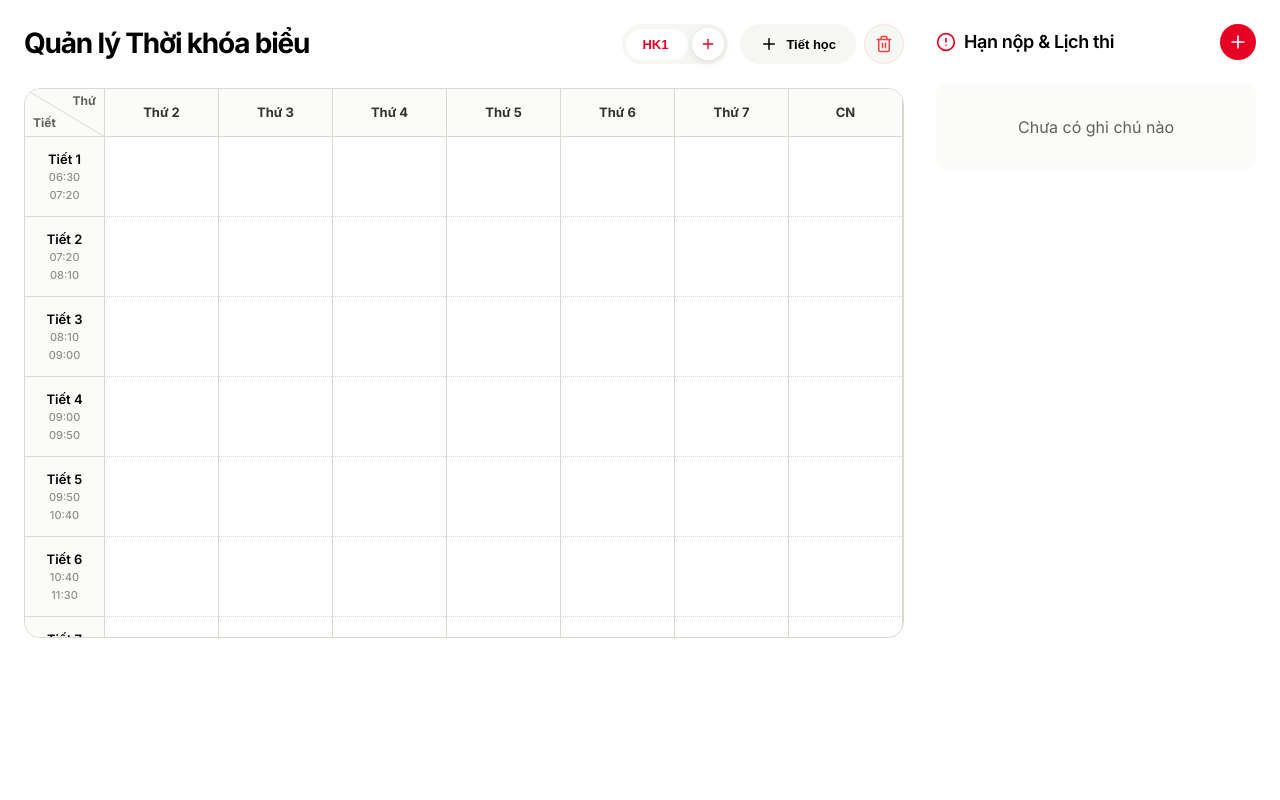
Test case: Timetable — entry & schedule CRUD › submit_valid_entry_calls_createScheduleEntry_and_closes_modal
Expected: the heading "Quản lý Thời khóa biểu" is shown, [24, 27, 309, 61]
Click the button "Tiết học": coordinates (798, 44) [740, 24, 856, 64]
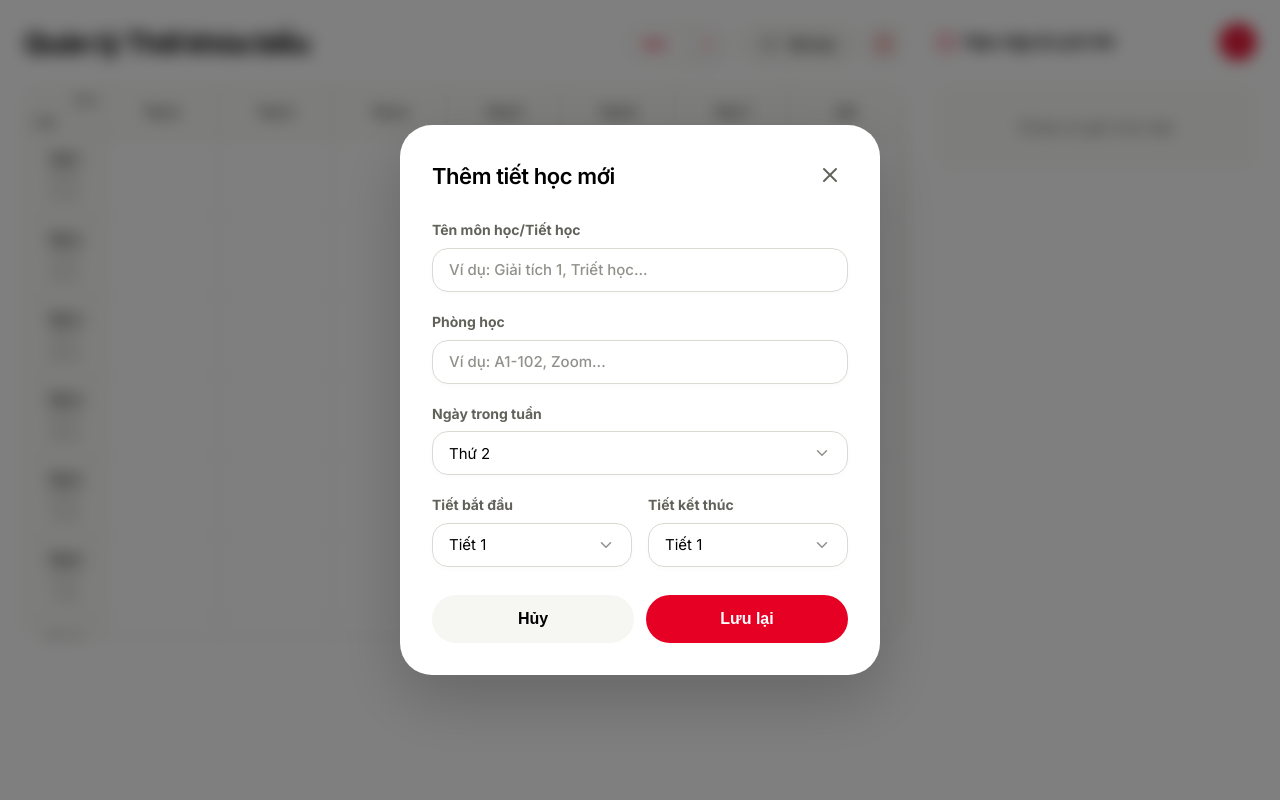
Result: the heading "Thêm tiết học mới" is shown at [432, 163, 615, 191]
In the field with placeholder "Ví dụ: Giải tích 1, Triết học...": coordinates (640, 270) [432, 248, 848, 292], type "Vật lý"
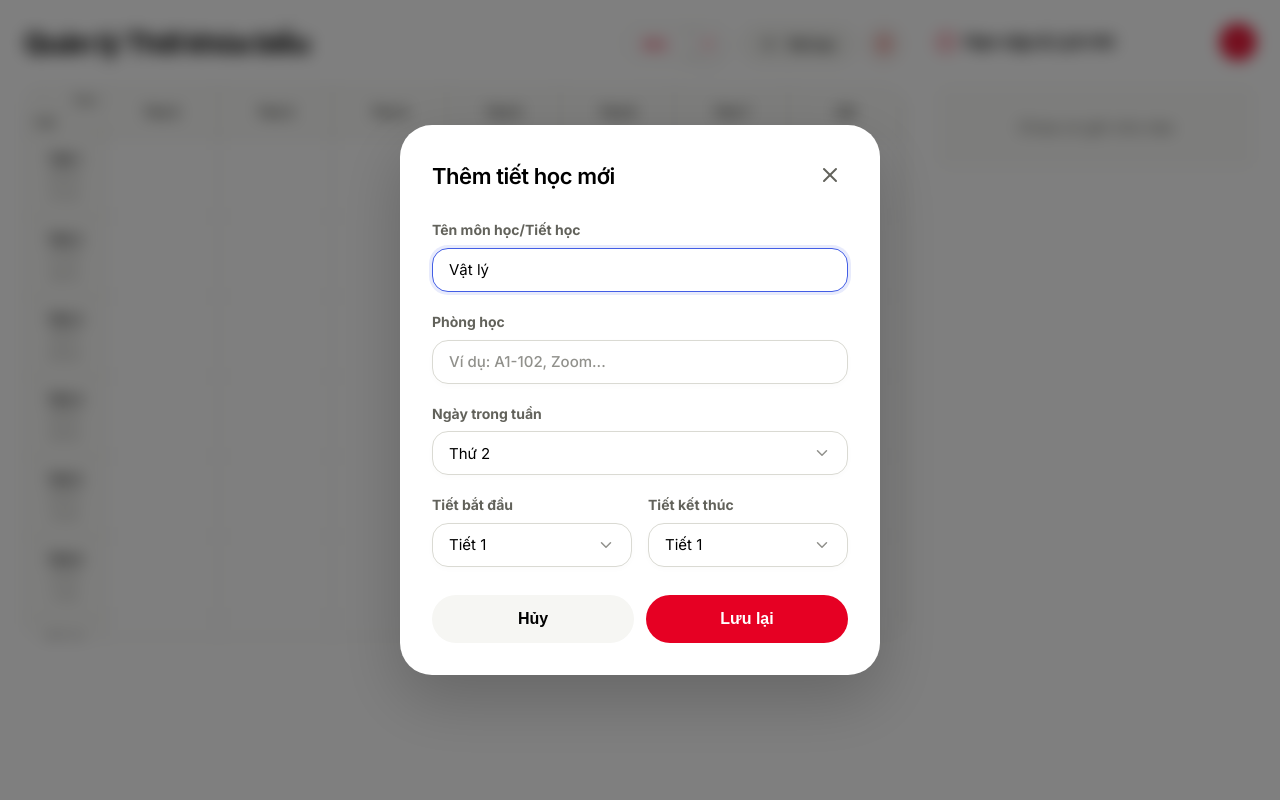
Click the button "Lưu lại": coordinates (747, 619) [646, 595, 848, 643]
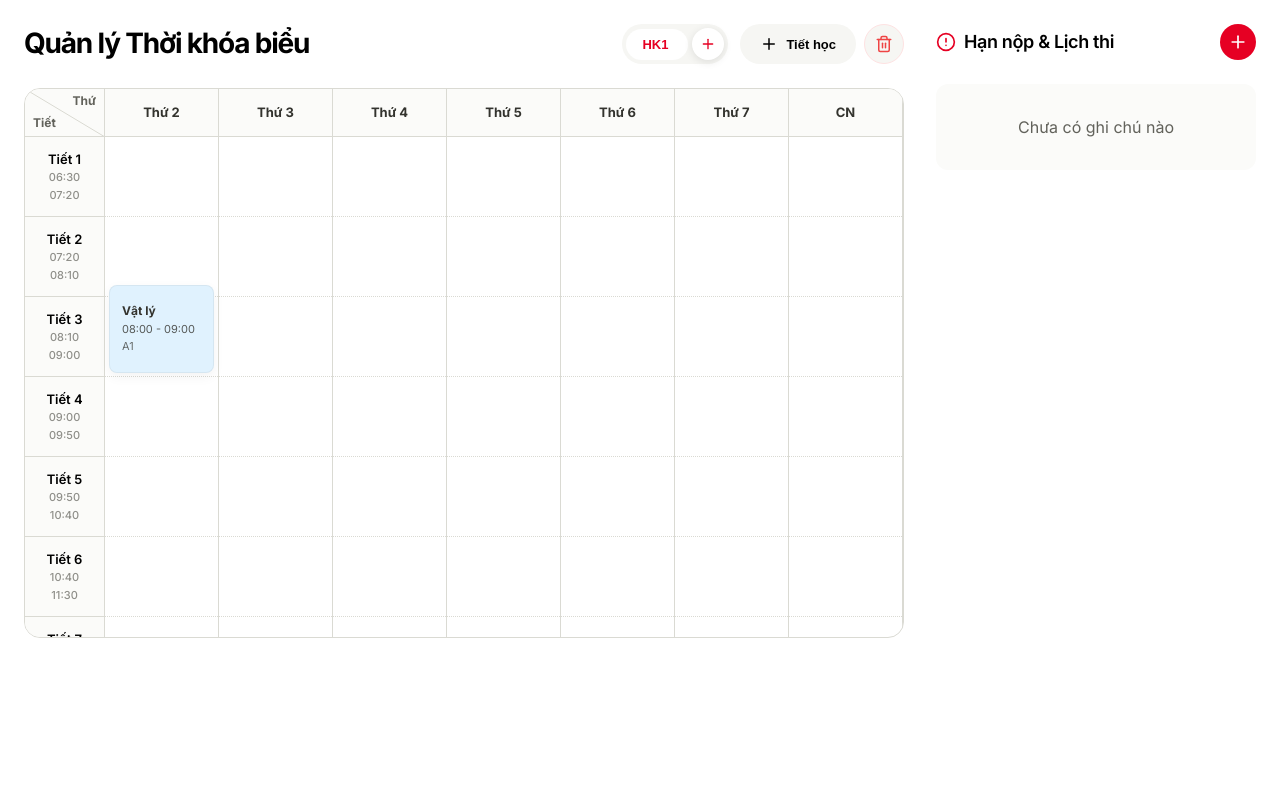
Result: the heading "Thêm tiết học mới" is gone
